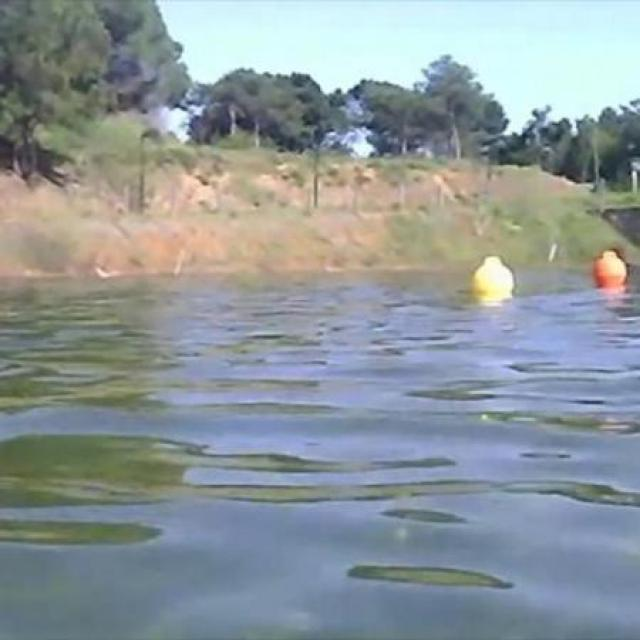buoy: (471, 256, 515, 296), (592, 251, 626, 285)
